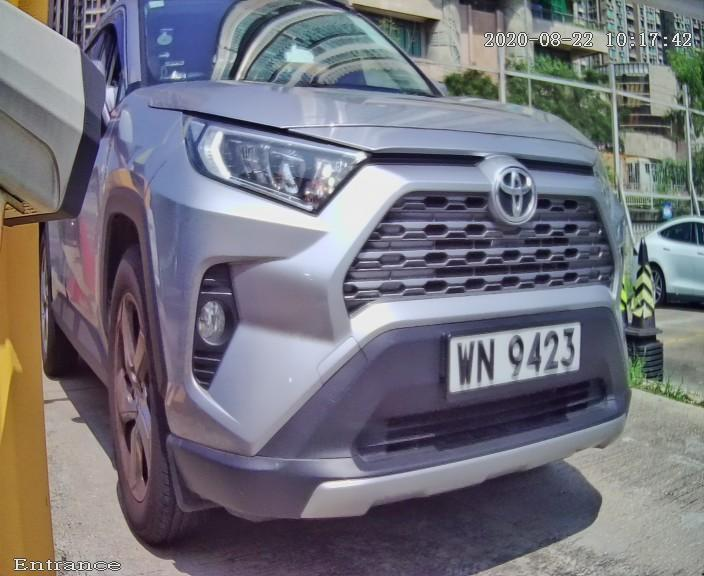Car: (19, 3, 692, 576)
License Plate: (437, 309, 591, 404)
